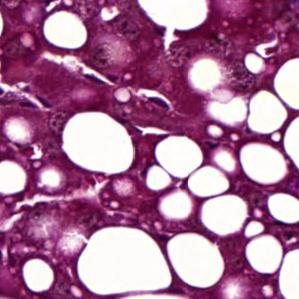steatosis: (64, 114, 135, 177), (167, 231, 224, 291), (241, 142, 287, 189), (44, 10, 88, 50), (272, 57, 299, 111), (23, 257, 54, 294), (268, 193, 299, 228)
